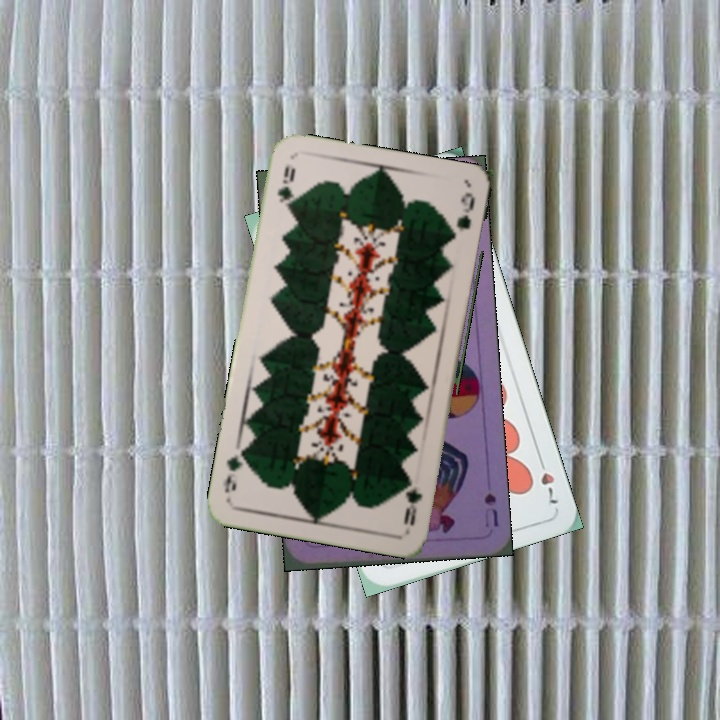G9: (399, 475, 425, 528), (273, 162, 298, 216)
H7: (533, 451, 561, 507)
SU: (480, 489, 501, 530)
